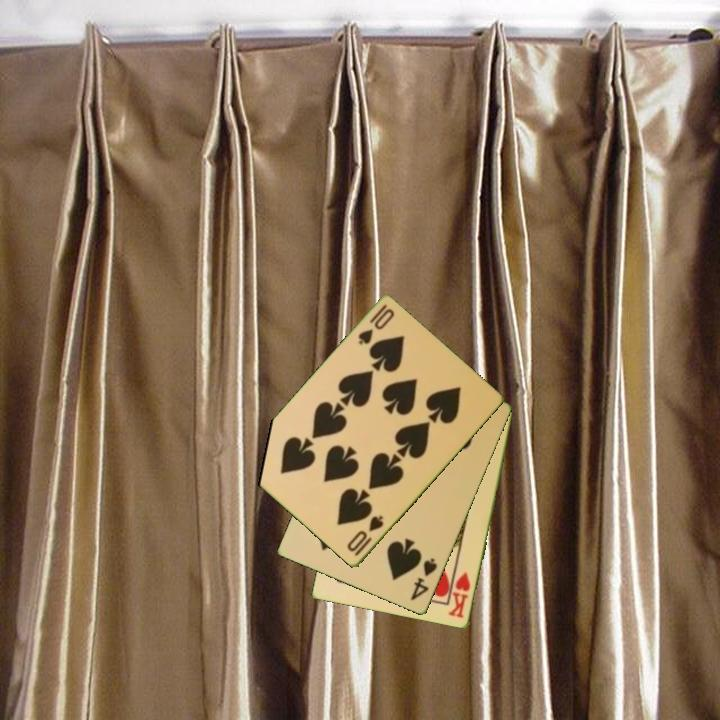10s: (343, 512, 387, 560), (354, 301, 397, 348)
4s: (407, 555, 440, 604)
Kh: (445, 569, 473, 621)
